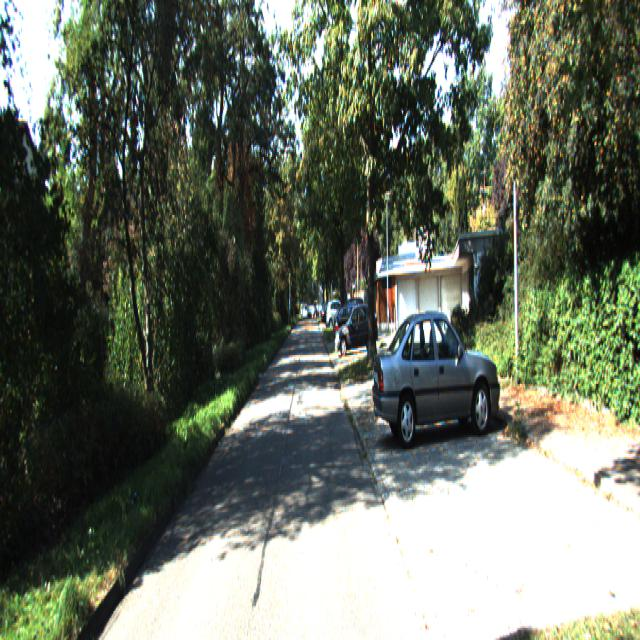Car: (371, 303, 502, 448), (336, 302, 379, 355)
